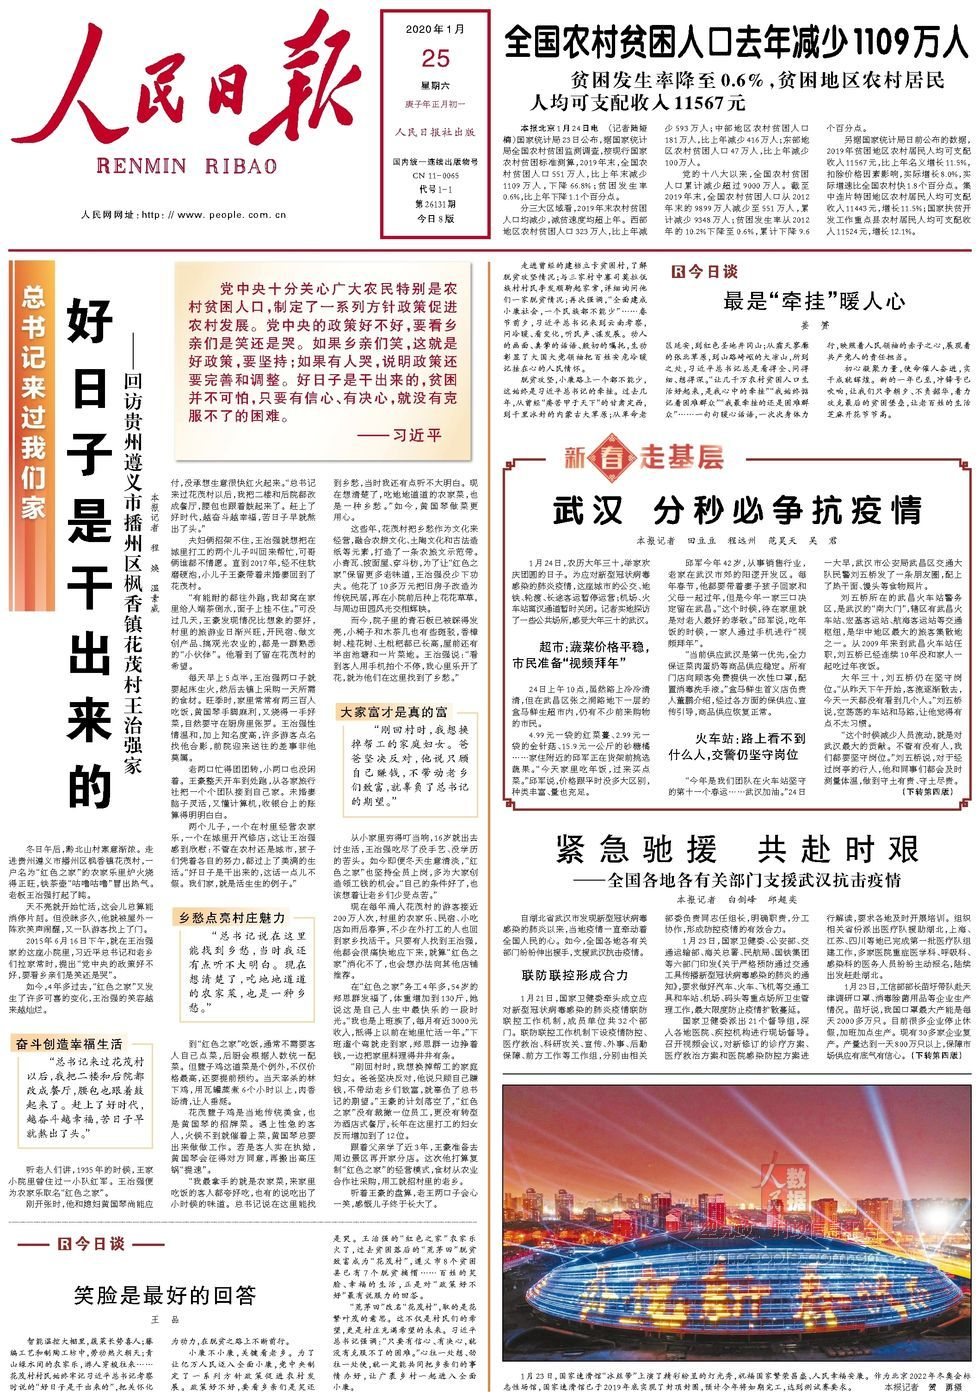pic: (499, 1081, 977, 1367)
